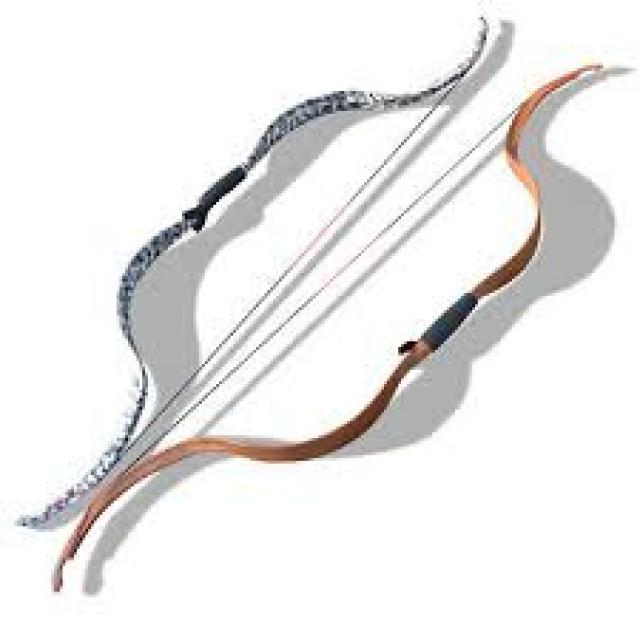X-Bow: (49, 54, 606, 596), (14, 11, 495, 536)
